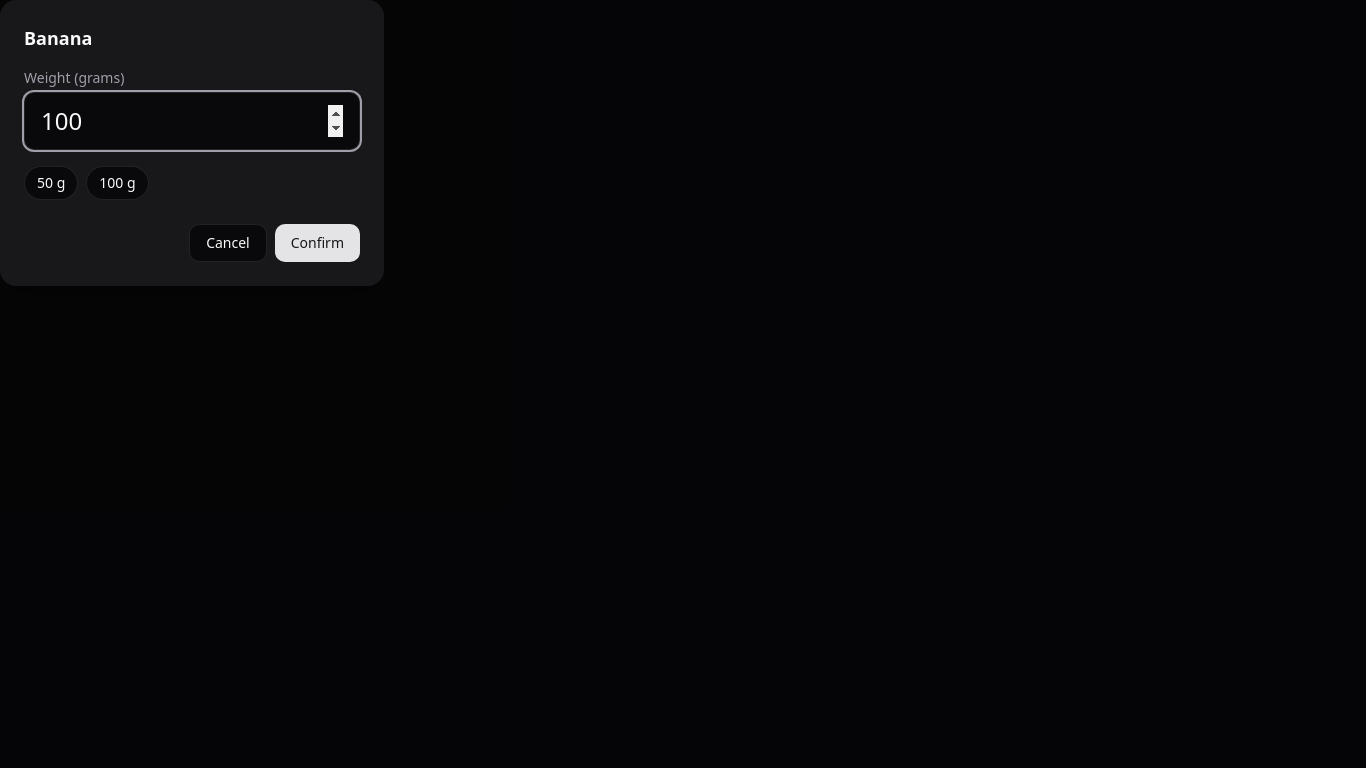
Test: WeightModal › preset buttons replace the input value
Click the button "50 g".
click(51, 183)  # box x1=24 y1=166 x2=78 y2=200
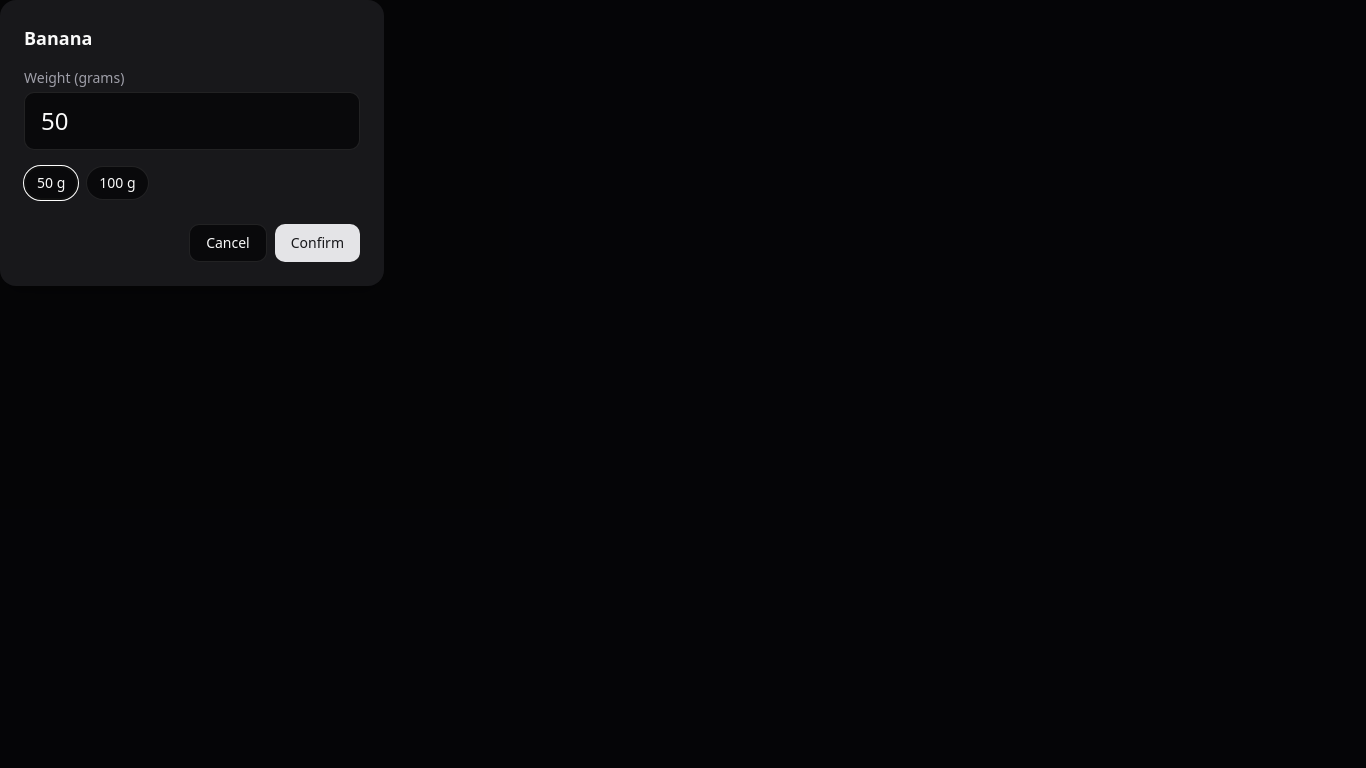
Now the number field labelled "Weight (grams)" holds "50", box x1=24 y1=92 x2=360 y2=150
